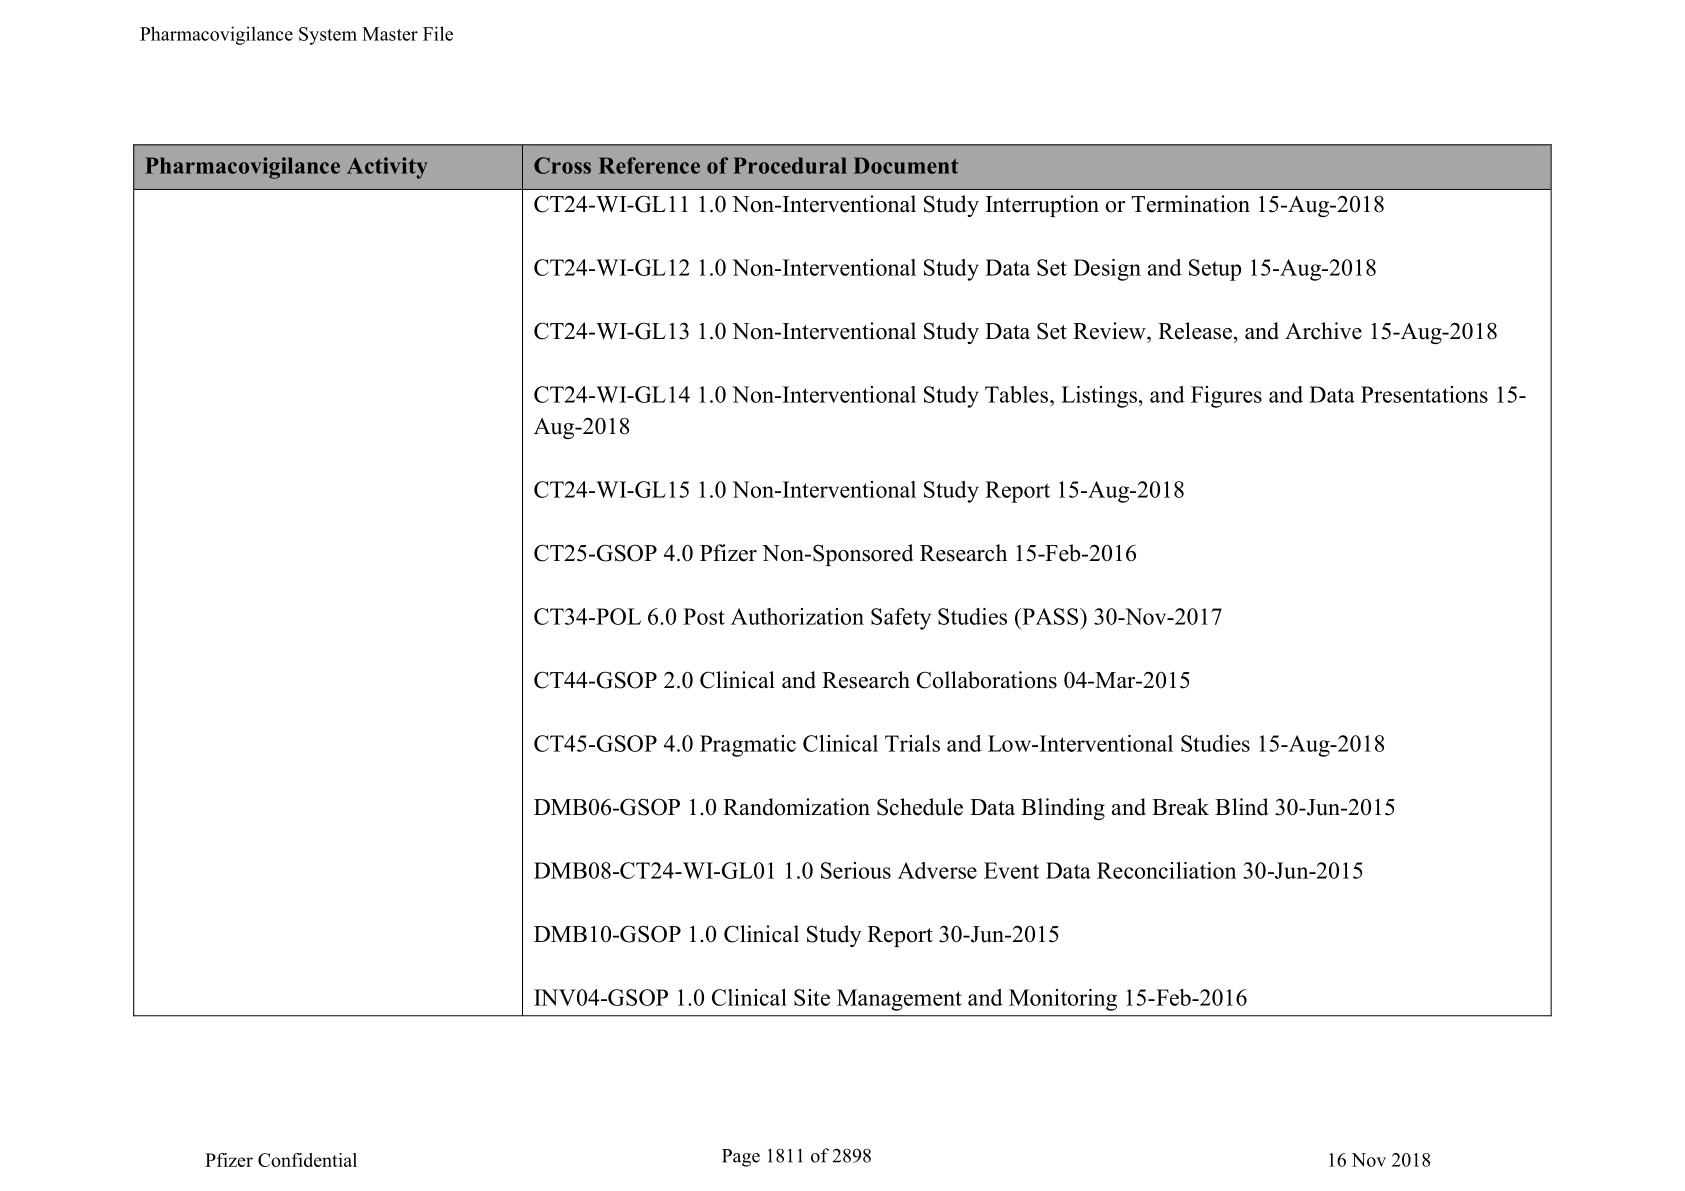full_lined: (131, 143, 1552, 1017)
